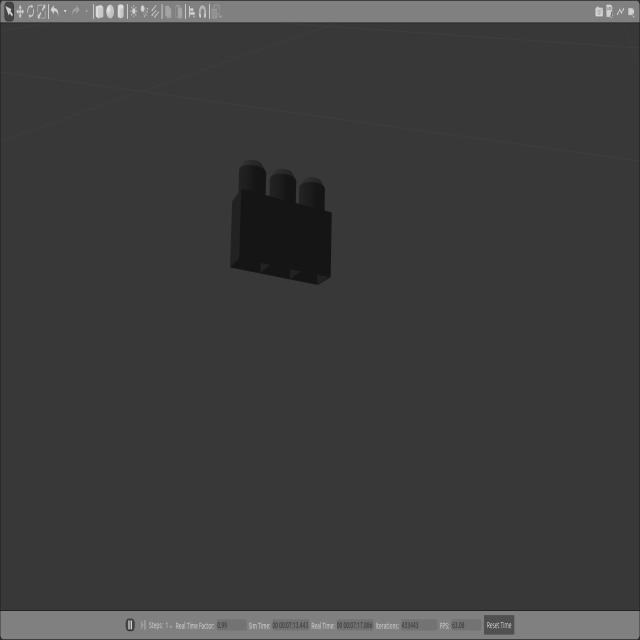block6: (230, 160, 332, 284)
